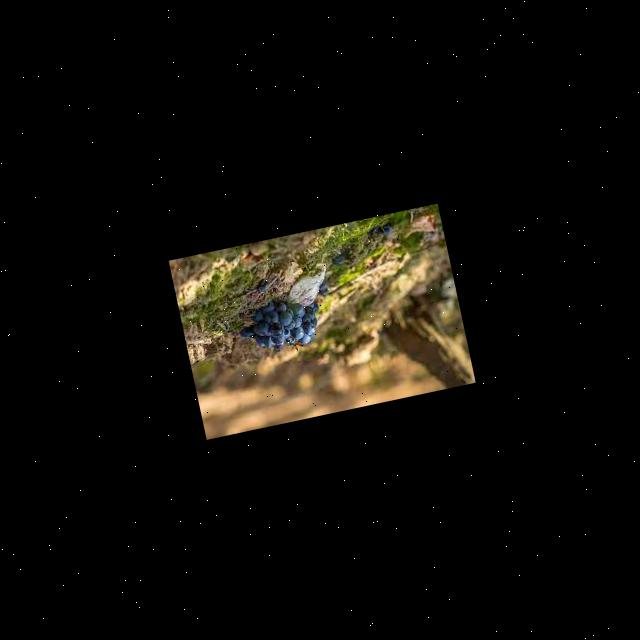grape: (234, 291, 326, 361)
